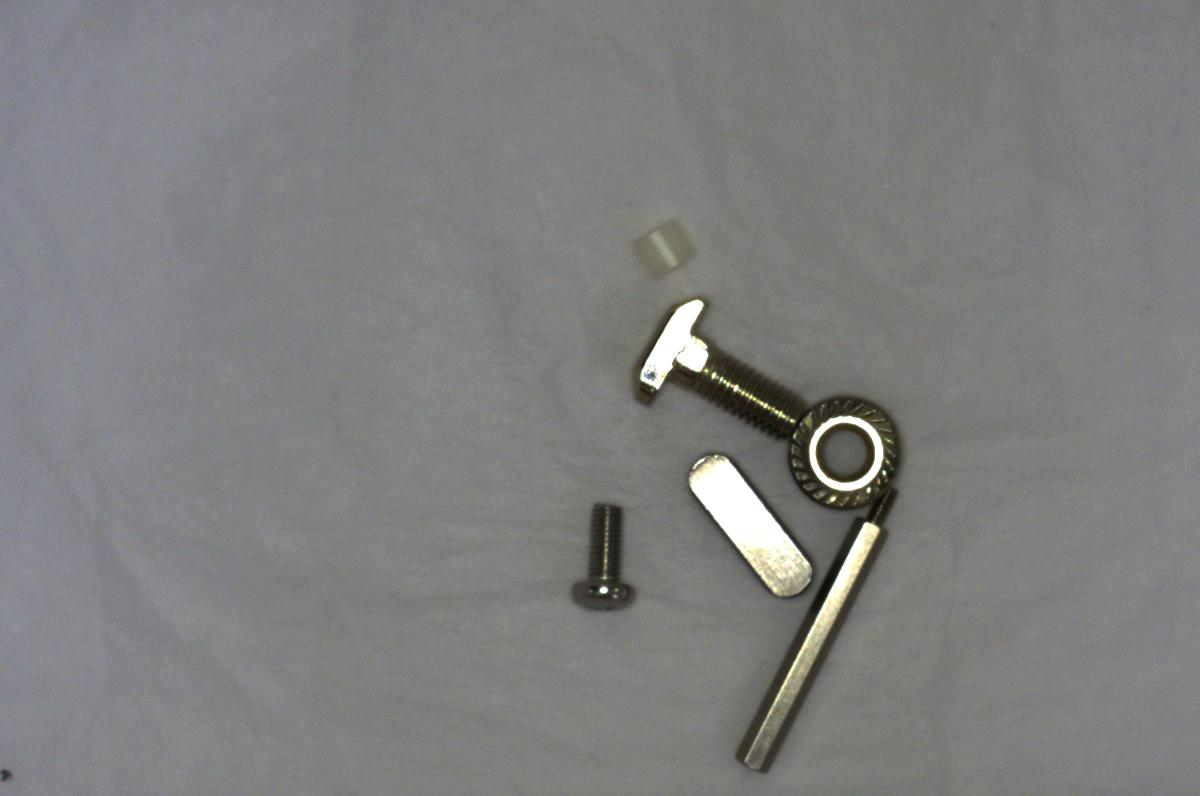Flange nut: (779, 385, 906, 513)
Hexagonal steel column: (720, 482, 907, 782)
Keybar: (680, 442, 817, 609)
Plastic cushion pillar: (626, 210, 705, 289)
Round head screw: (548, 490, 646, 619)
T-shaped screw: (616, 287, 814, 445)
